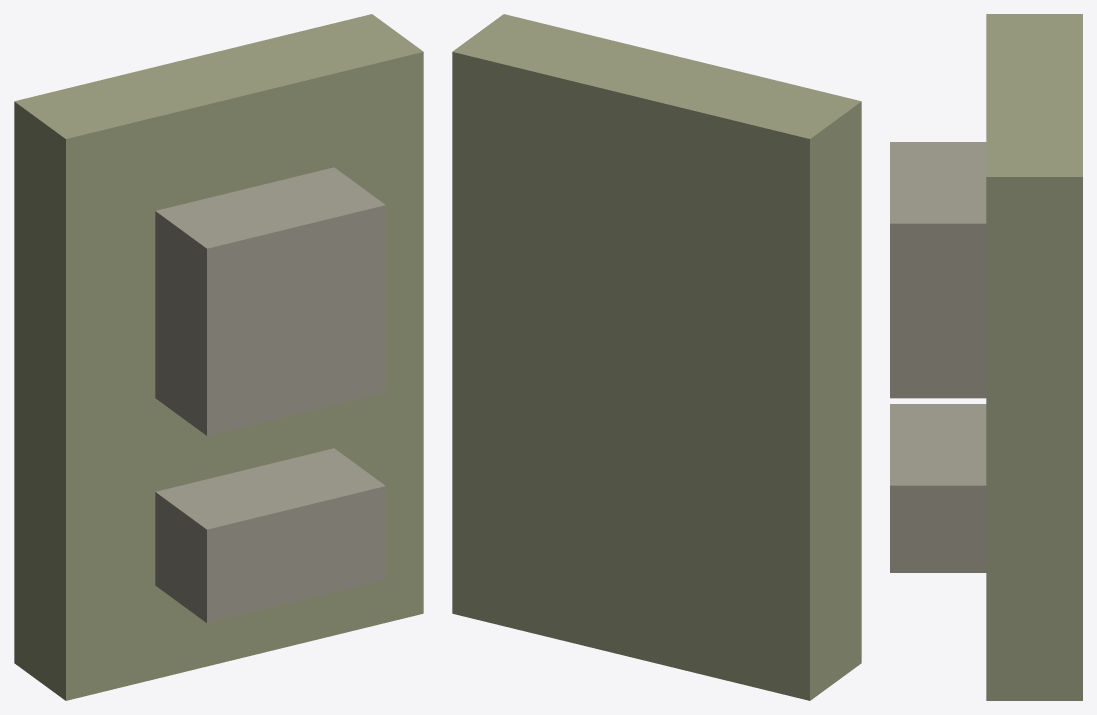
File: Switch.obj
3 renders of one model, left to right at view 1: azimuth 30°, elevation 25°; view 2: azimuth 150°, elevation 25°; view 3: azimuth 270°, elevation 25°, orthographic. The views are drawn at different scales.
Size of the model in its own units: 0.4 by 0.6 by 0.2.
Materials: 1 (1 with a texture image).
